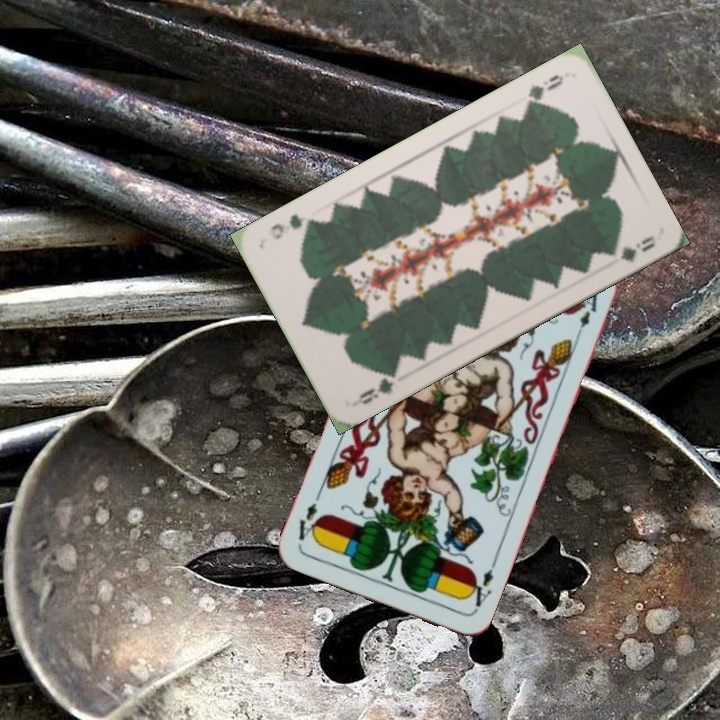EA: (462, 558, 499, 614)
G9: (349, 365, 400, 409), (521, 70, 566, 111)
